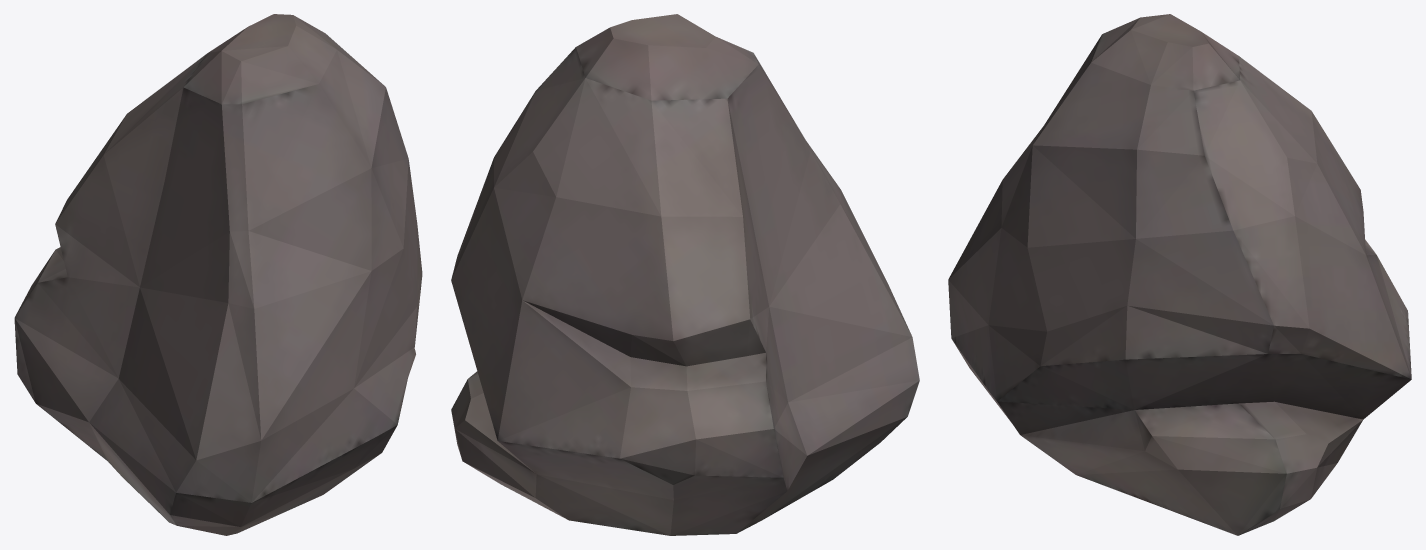
3 renders of one model, left to right at view 1: azimuth 30°, elevation 25°; view 2: azimuth 150°, elevation 25°; view 3: azimuth 270°, elevation 25°, orthographic. The views are drawn at different scales.
Parts seen in each view (by area): view 1: body0_model0_lod0_mesh0; view 2: body0_model0_lod0_mesh0; view 3: body0_model0_lod0_mesh0.
Boxes of the visible parts, bbox=[...] form: body0_model0_lod0_mesh0: bbox=[14, 14, 422, 535]; body0_model0_lod0_mesh0: bbox=[451, 14, 919, 535]; body0_model0_lod0_mesh0: bbox=[948, 14, 1411, 535].
Size of the model in its own units: 272 by 340 by 323.
1 material, 1 textured.
